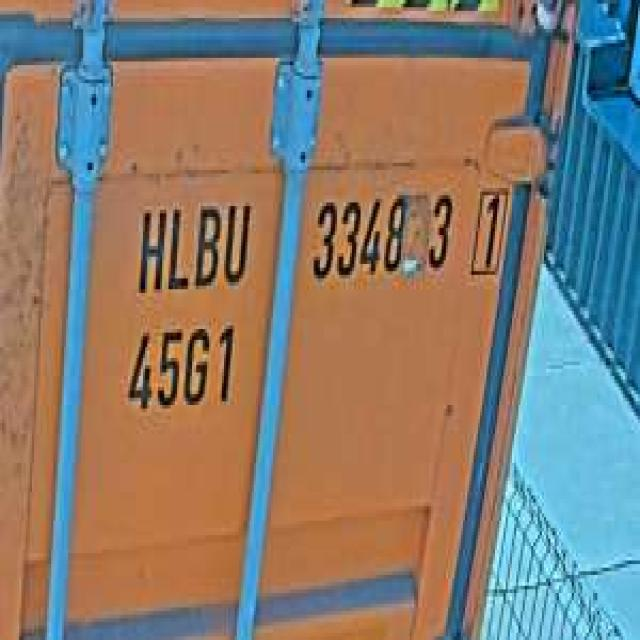dv: (467, 174, 510, 282)
owner: (132, 188, 254, 300)
serial: (307, 181, 457, 289)
size: (119, 314, 239, 416)
